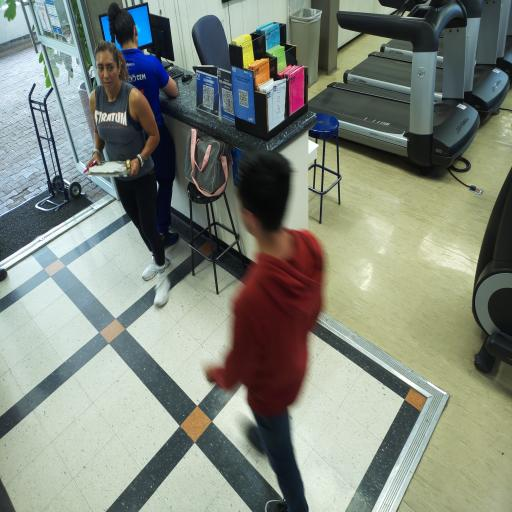person: (206, 152, 322, 511), (87, 42, 169, 306), (108, 3, 178, 245), (0, 269, 7, 281)
